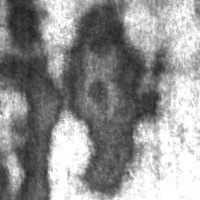patches: (61, 2, 165, 196), (0, 44, 64, 198), (3, 0, 48, 55)
